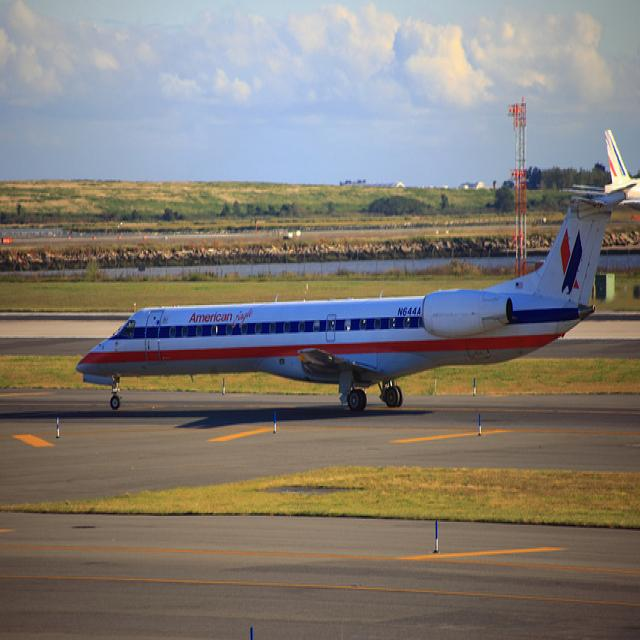airplane: (74, 188, 625, 416), (602, 126, 640, 204)
